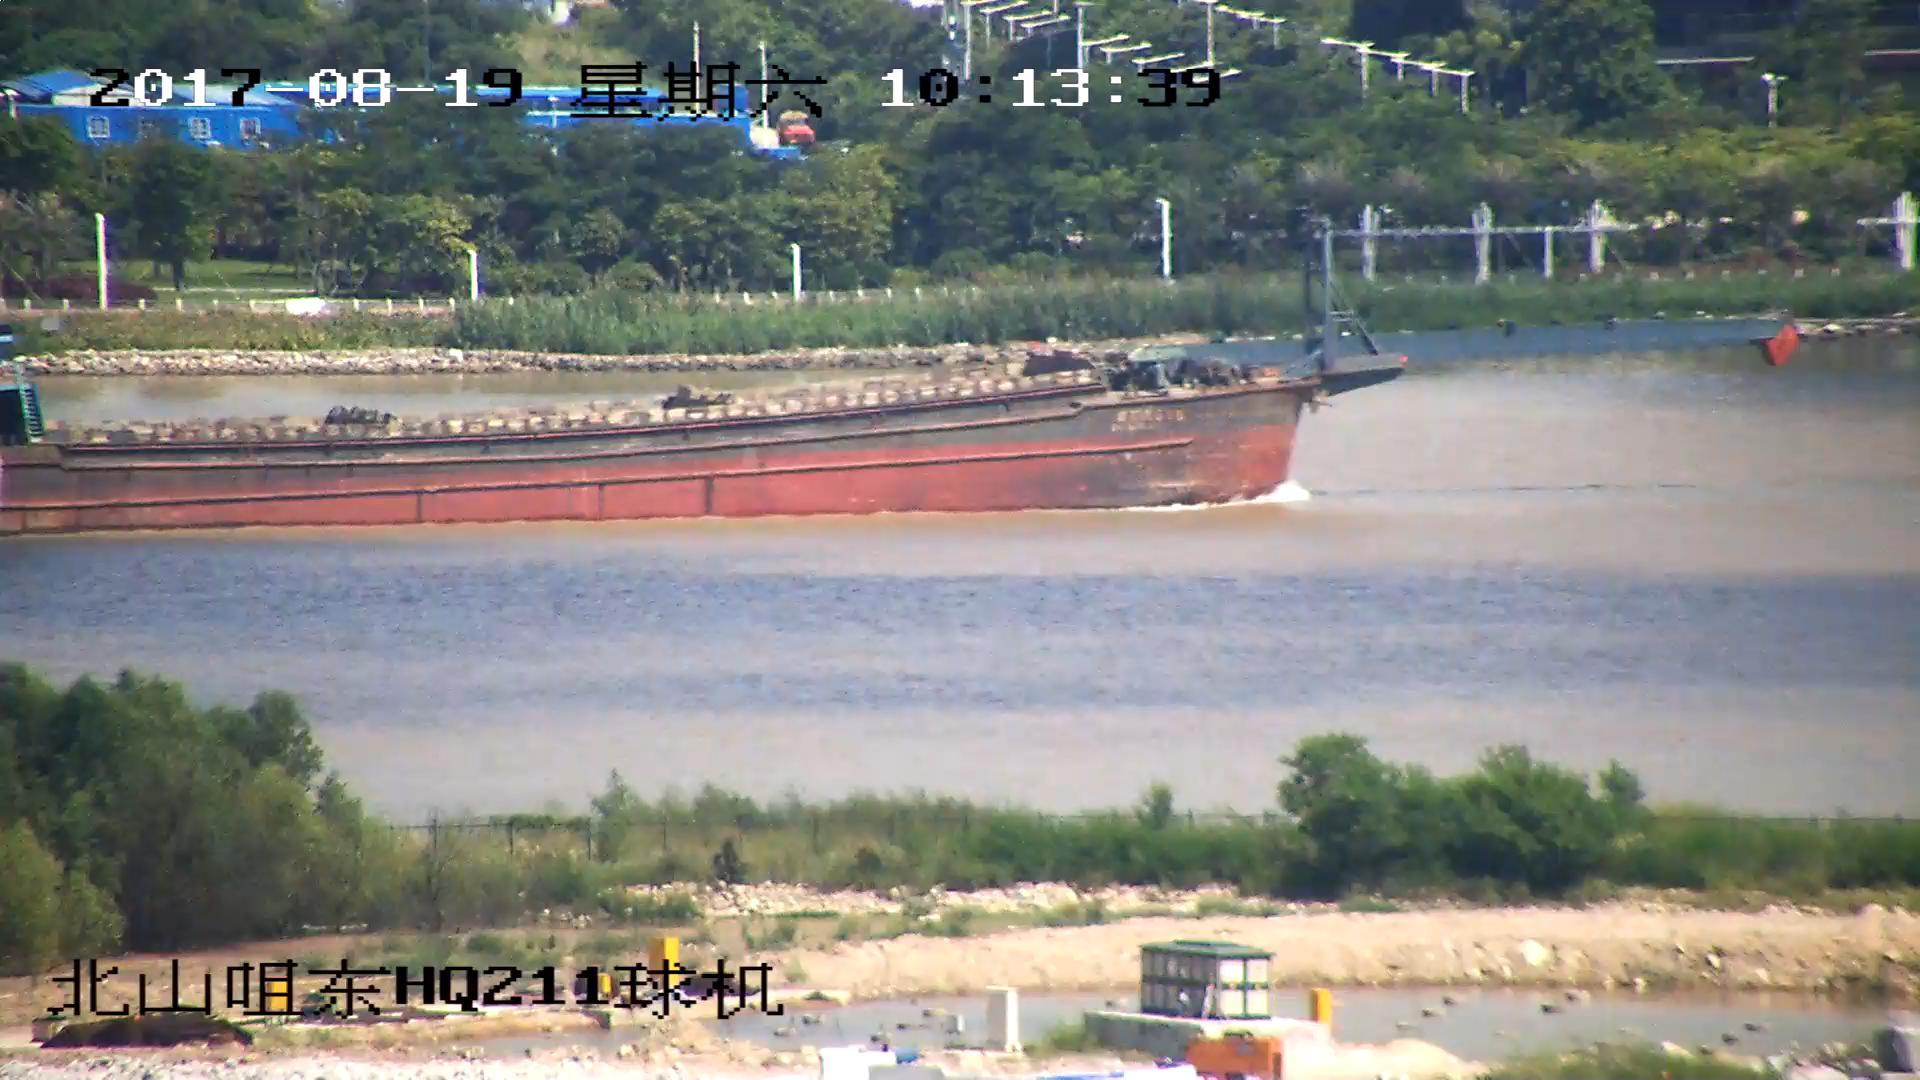bulk cargo carrier: (1, 205, 1777, 535)
